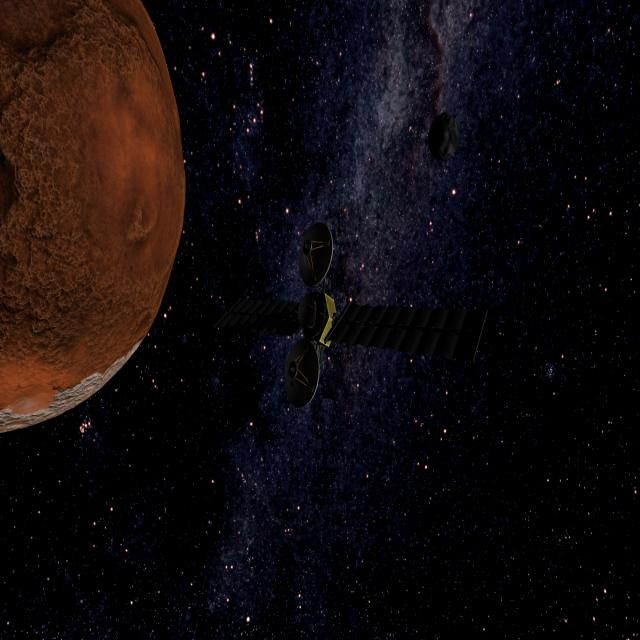satellite: (215, 220, 425, 419)
